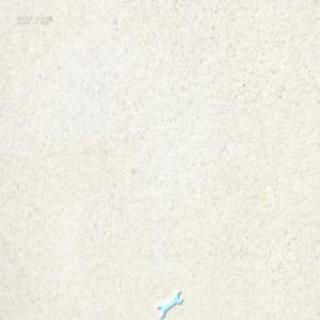Wrenchtrack_idkeyframe: (157, 288, 183, 316)
